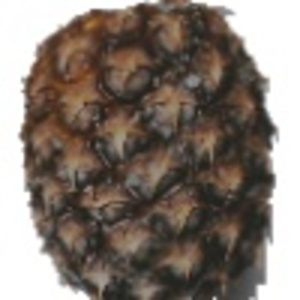abacaxi: (17, 1, 281, 294)
